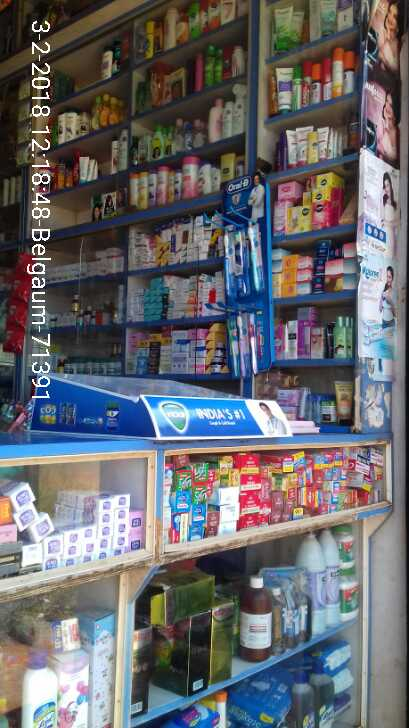oralb: (223, 224, 268, 378)
